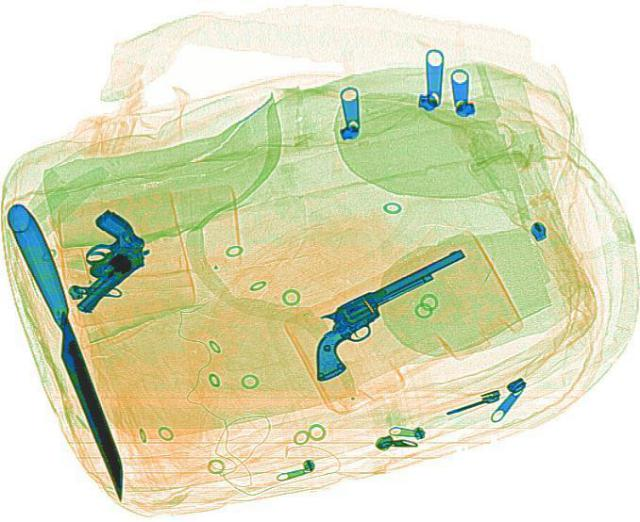Gun: (278, 246, 500, 382), (26, 207, 166, 313)
Knife: (0, 199, 142, 500)
